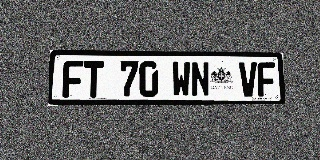0: (139, 61, 158, 97)
7: (119, 61, 138, 97)
F: (63, 61, 83, 98), (257, 62, 276, 97)
N: (191, 61, 210, 97)
T: (83, 61, 104, 98)
V: (239, 62, 258, 97)
W: (172, 61, 191, 97)
